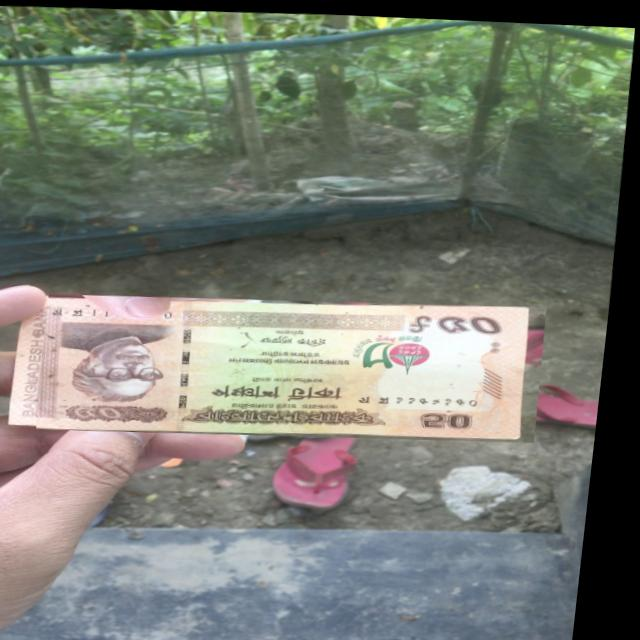Taka: (43, 284, 555, 446)
